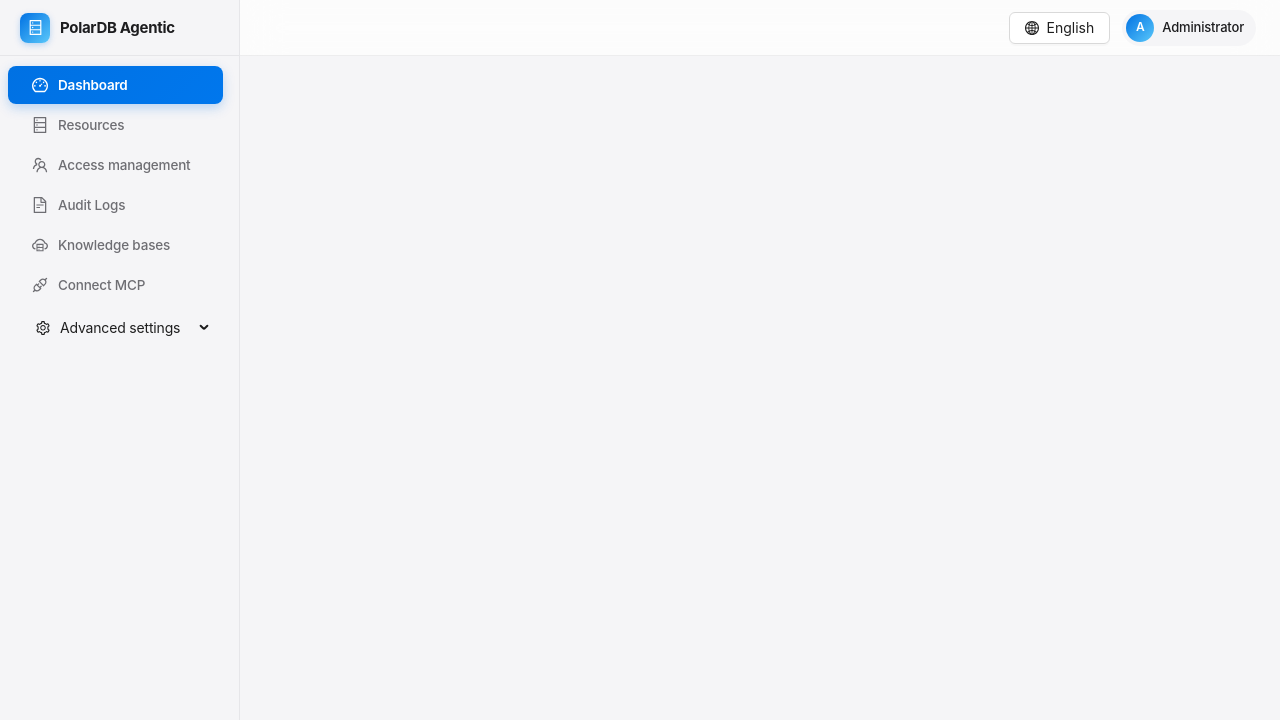
groups advanced configuration under the unified resource and account navigation
expect the text "Resources" is shown: met, box [58,117,124,133]
expect the text "Access management" is shown: met, box [58,157,190,173]
Click the menu item "Advanced settings".
click(108, 328)  # box [36,319,180,336]
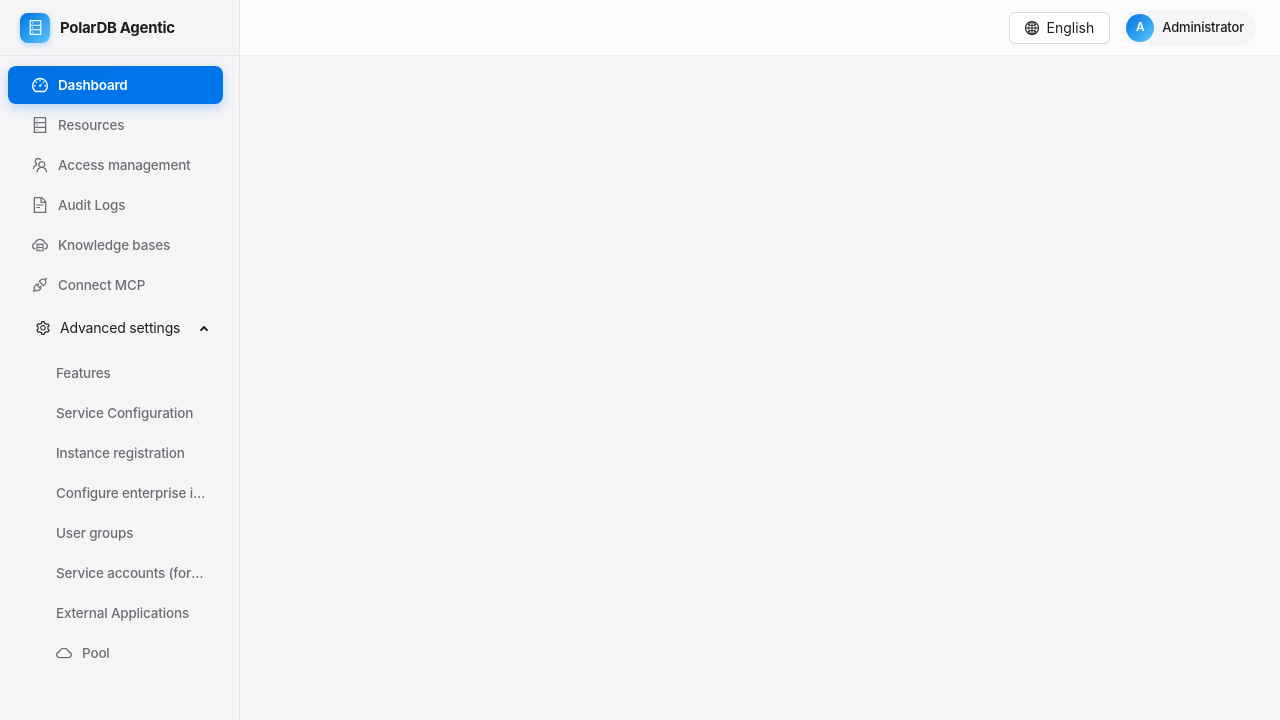
expect the text "Service Configuration" is shown: met, box [56,405,193,421]
